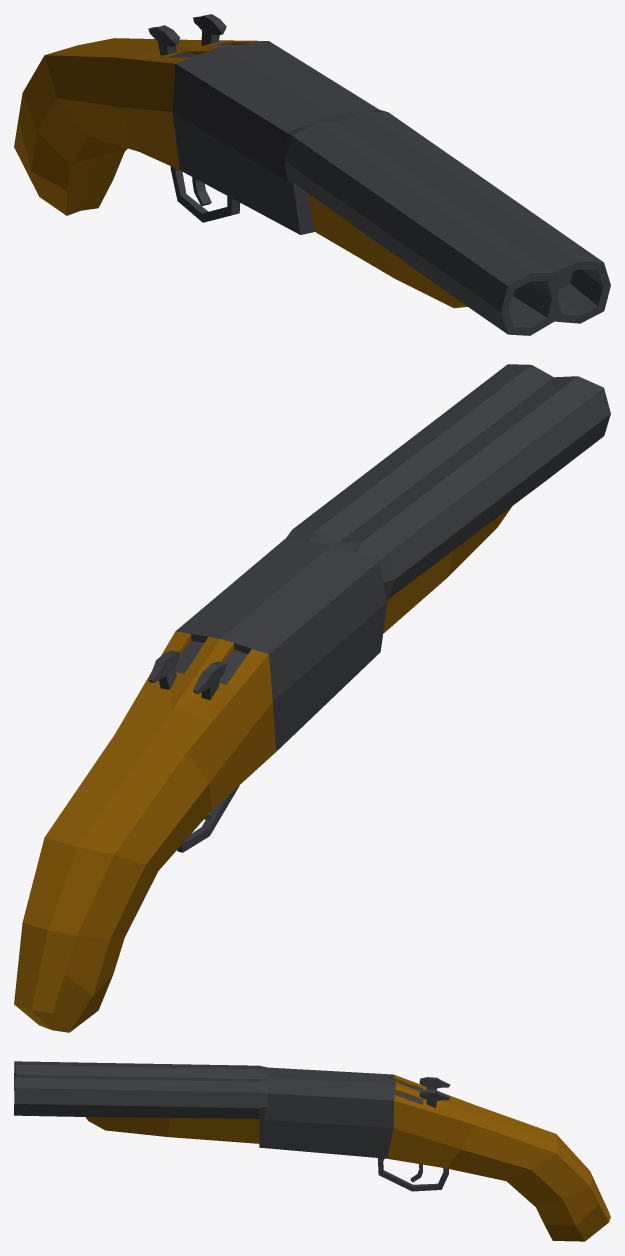
File: shotgun.fbx
The picture shows the model from 3 angles, top to bottom: view 1: azimuth 30°, elevation 25°; view 2: azimuth 150°, elevation 25°; view 3: azimuth 270°, elevation 25°; orthographic projection. The views are drawn at different scales.
Visible parts, largest first — view 1: Cube; view 2: Cube; view 3: Cube.
Part boxes in pixels (<box>): Cube: <box>14,14,610,335</box>; Cube: <box>14,364,610,1032</box>; Cube: <box>14,1061,610,1241</box>.
Size of the model in its own units: 171 by 435 by 1418.
